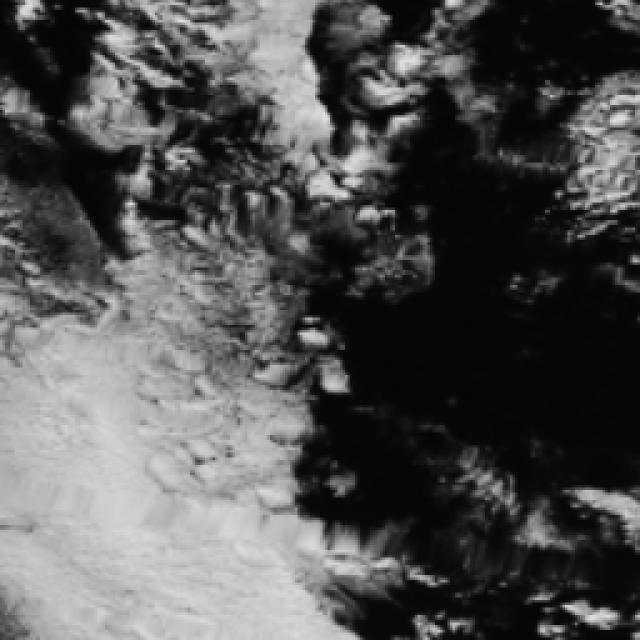CB: (42, 502, 270, 640), (12, 373, 209, 527)
